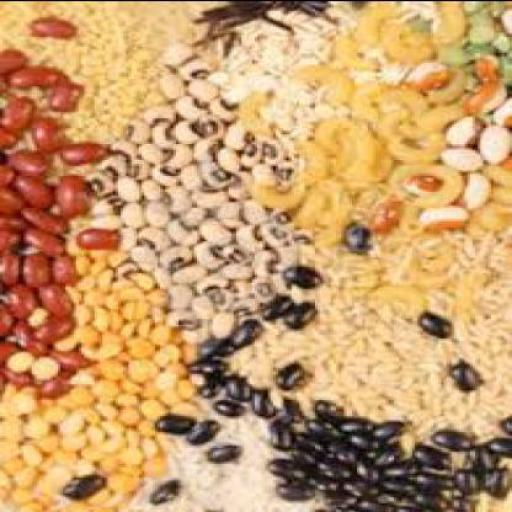biodegradable: (234, 4, 509, 248), (81, 51, 297, 342), (228, 238, 509, 445), (0, 246, 199, 509), (0, 1, 170, 142), (124, 393, 326, 510), (302, 398, 509, 510), (186, 0, 328, 54), (128, 2, 217, 44), (289, 60, 355, 102), (375, 26, 436, 64), (231, 87, 270, 133), (52, 172, 92, 214), (427, 2, 467, 44), (462, 76, 504, 115), (381, 131, 441, 158), (439, 111, 483, 147), (413, 203, 465, 230), (351, 4, 386, 44), (247, 178, 299, 204), (22, 12, 70, 40), (16, 203, 65, 230), (29, 311, 73, 341), (328, 33, 365, 68), (478, 123, 510, 163), (3, 144, 52, 170), (456, 167, 488, 206), (8, 63, 57, 88), (58, 472, 104, 498), (197, 155, 236, 185), (10, 175, 52, 202), (44, 73, 76, 108), (56, 139, 102, 163), (0, 94, 30, 130), (446, 270, 476, 306), (24, 226, 68, 250), (446, 359, 481, 389), (307, 114, 337, 149), (438, 145, 480, 169), (407, 60, 441, 89), (20, 250, 48, 285), (228, 316, 256, 351), (409, 308, 446, 334), (144, 478, 182, 503), (284, 298, 318, 325), (368, 198, 394, 233), (178, 55, 213, 80), (47, 254, 76, 284), (273, 393, 302, 423), (34, 119, 61, 151), (32, 369, 68, 393), (268, 363, 304, 387), (231, 136, 258, 168), (263, 454, 302, 476), (45, 343, 87, 363), (220, 119, 248, 149), (262, 421, 294, 447), (192, 109, 224, 135), (197, 333, 231, 357), (36, 283, 68, 308), (278, 264, 318, 284), (74, 225, 116, 244), (212, 144, 242, 170), (168, 118, 198, 144), (184, 417, 216, 441), (270, 476, 312, 494), (8, 282, 34, 311), (189, 134, 218, 160), (0, 250, 21, 285), (150, 413, 192, 430), (401, 170, 433, 192), (202, 93, 234, 115), (184, 76, 221, 95), (0, 206, 27, 232), (341, 222, 368, 248), (210, 393, 239, 417), (260, 294, 289, 318), (244, 386, 270, 412), (200, 440, 236, 458), (166, 94, 200, 113), (0, 347, 32, 367), (223, 374, 247, 400), (257, 136, 281, 162), (0, 48, 23, 75), (488, 94, 510, 120), (186, 358, 221, 374), (0, 302, 16, 334), (0, 226, 21, 250), (0, 186, 21, 210), (197, 373, 218, 395), (10, 318, 26, 345), (29, 356, 52, 373), (0, 369, 32, 381), (0, 339, 18, 359), (1, 162, 13, 184)
